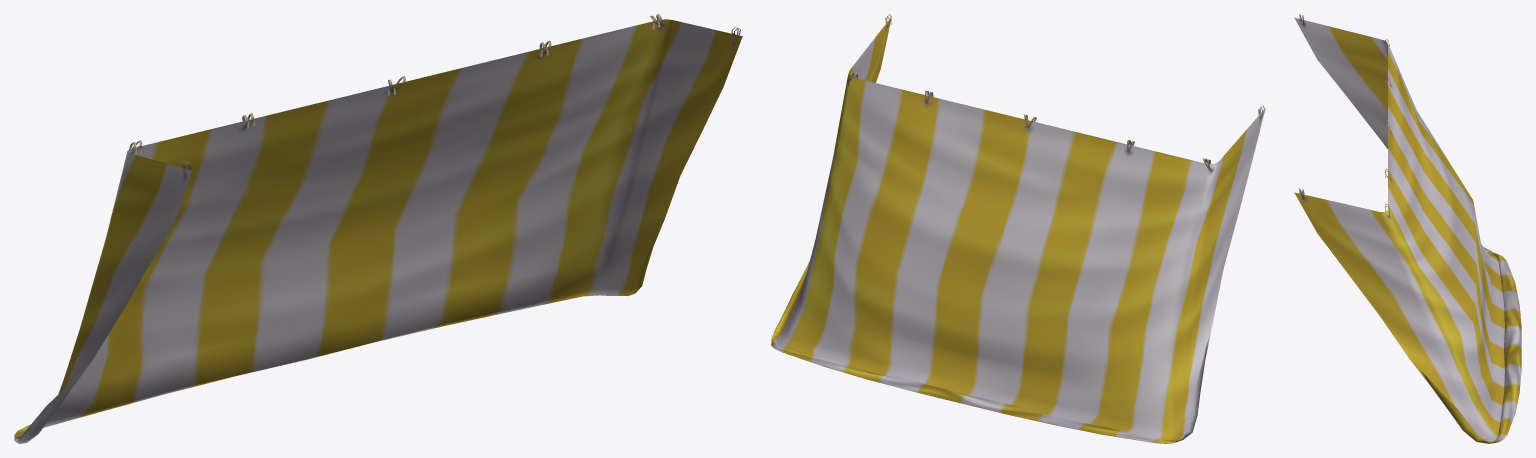
The model's file is jsf_BackSide_s03_c03_t02.fbx.
3 renders of one model, left to right at view 1: azimuth 30°, elevation 25°; view 2: azimuth 150°, elevation 25°; view 3: azimuth 270°, elevation 25°, orthographic. The views are drawn at different scales.
Visible parts, largest first — view 1: jsf_BackSide_s03_c03_t02; view 2: jsf_BackSide_s03_c03_t02; view 3: jsf_BackSide_s03_c03_t02.
Part boxes in pixels (bbox=[...]): jsf_BackSide_s03_c03_t02: bbox=[14, 14, 742, 443]; jsf_BackSide_s03_c03_t02: bbox=[771, 14, 1265, 443]; jsf_BackSide_s03_c03_t02: bbox=[1294, 14, 1521, 443].
Size of the model in its own units: 348 by 205 by 171.
